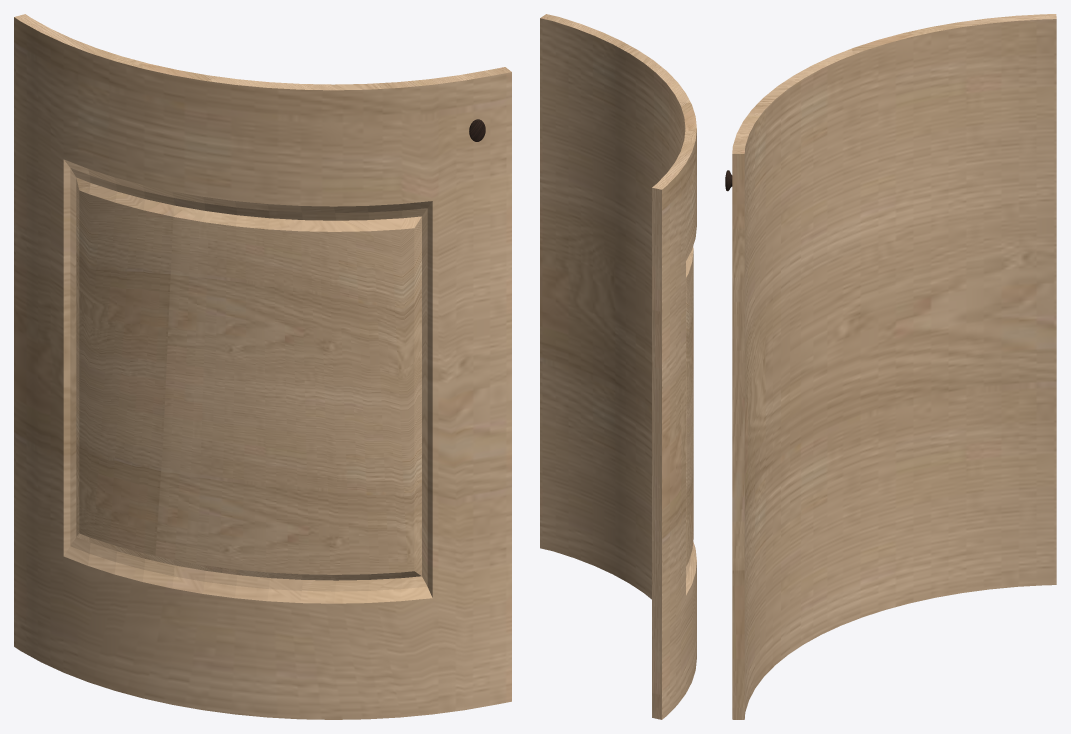
Rendered from тумба на которой грамофон.FBX.
3 renders of one model, left to right at view 1: azimuth 30°, elevation 25°; view 2: azimuth 150°, elevation 25°; view 3: azimuth 270°, elevation 25°, orthographic. The views are drawn at different scales.
Parts seen in each view (by area): view 1: Object185; view 2: Object185; view 3: Object185.
Boxes of the visible parts, x1,y1,x2,y2 form: Object185: [14, 14, 511, 719]; Object185: [540, 14, 696, 719]; Object185: [725, 14, 1056, 719].
Size of the model in its own units: 454 by 860 by 456.
